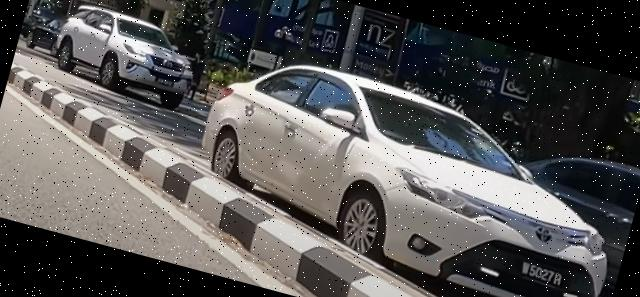License_Plate: (519, 259, 567, 289)
car: (179, 39, 640, 297), (46, 1, 204, 113)
